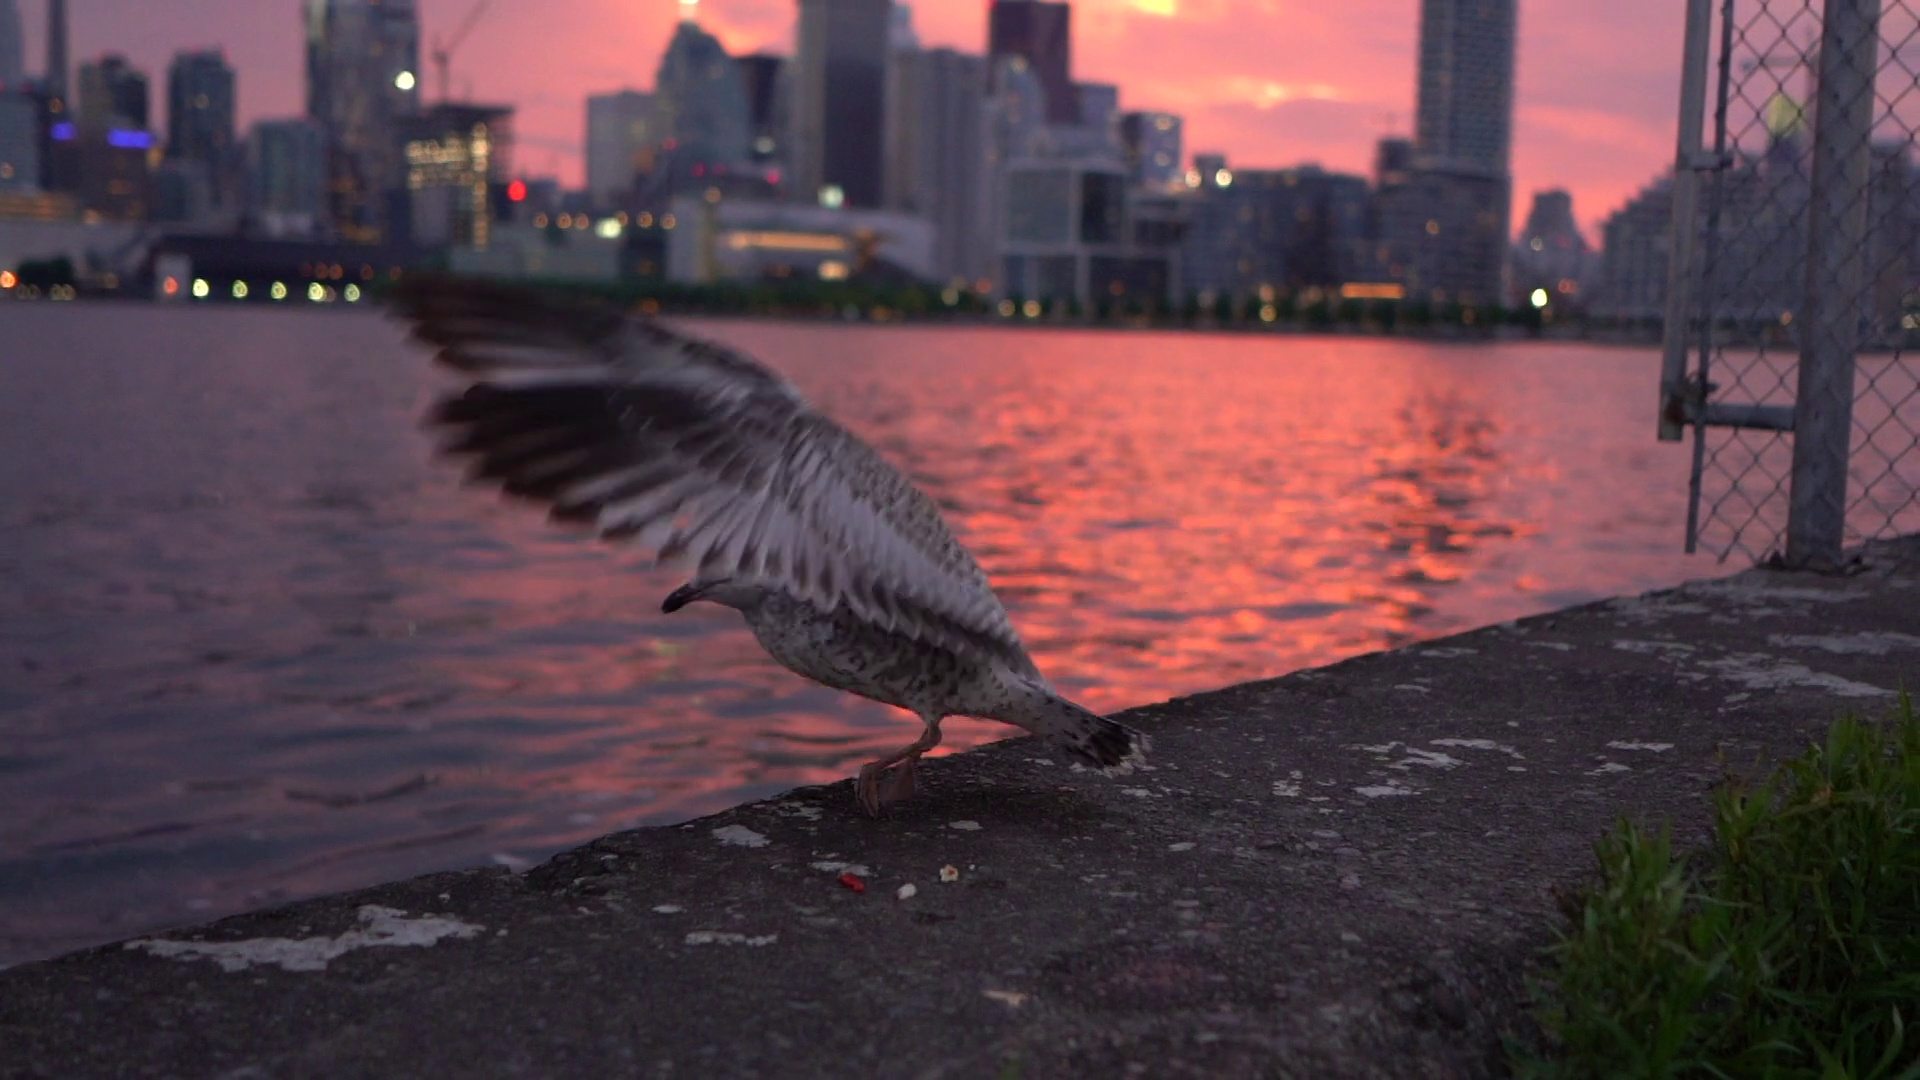bird: (389, 273, 1149, 822)
